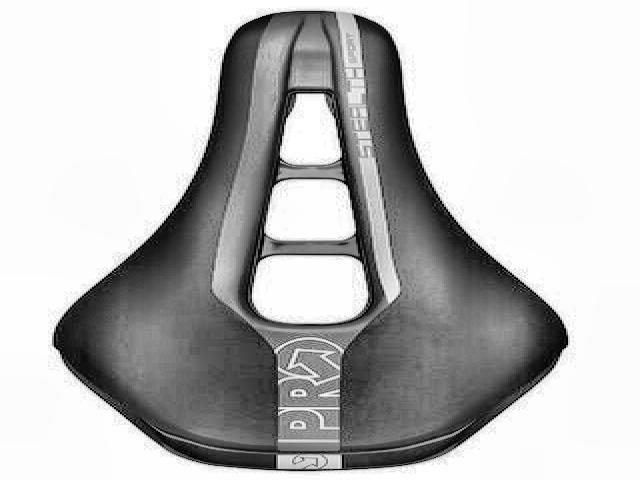saddle: (50, 11, 574, 474)
